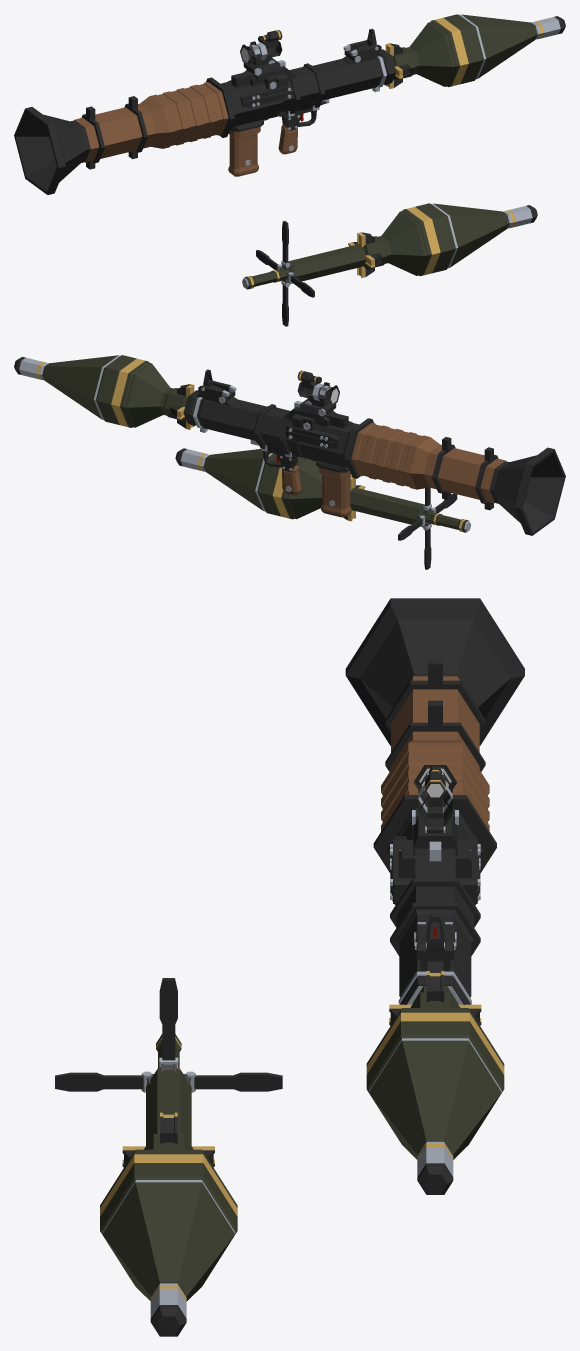
The model's file is RPG.fbx.
3 views of the same model, one above another, from view 1: azimuth 30°, elevation 25°; view 2: azimuth 150°, elevation 25°; view 3: azimuth 270°, elevation 25° (orthographic). The views are drawn at different scales.
Visible parts, largest first — view 1: Cylinder, Cylinder.001, Cylinder.027; view 2: Cylinder, Cylinder.001, Cylinder.027, Cylinder.004; view 3: Cylinder, Cylinder.001, Cylinder.027, Cylinder.005, Cylinder.003, Cylinder.002.
Boxes of the visible parts, bbox=[...] form: Cylinder: bbox=[14, 28, 396, 194]; Cylinder.001: bbox=[242, 203, 537, 289]; Cylinder.027: bbox=[385, 14, 565, 88]; Cylinder: bbox=[183, 369, 565, 535]; Cylinder.001: bbox=[175, 448, 470, 532]; Cylinder.027: bbox=[14, 355, 194, 429]; Cylinder.004: bbox=[423, 524, 431, 569]; Cylinder: bbox=[345, 598, 524, 1004]; Cylinder.001: bbox=[100, 1034, 237, 1336]; Cylinder.027: bbox=[366, 971, 504, 1194]; Cylinder.005: bbox=[185, 1071, 282, 1092]; Cylinder.003: bbox=[55, 1071, 152, 1092]; Cylinder.002: bbox=[159, 978, 178, 1067].
Size of the model in its own units: 950 by 398 by 367.
